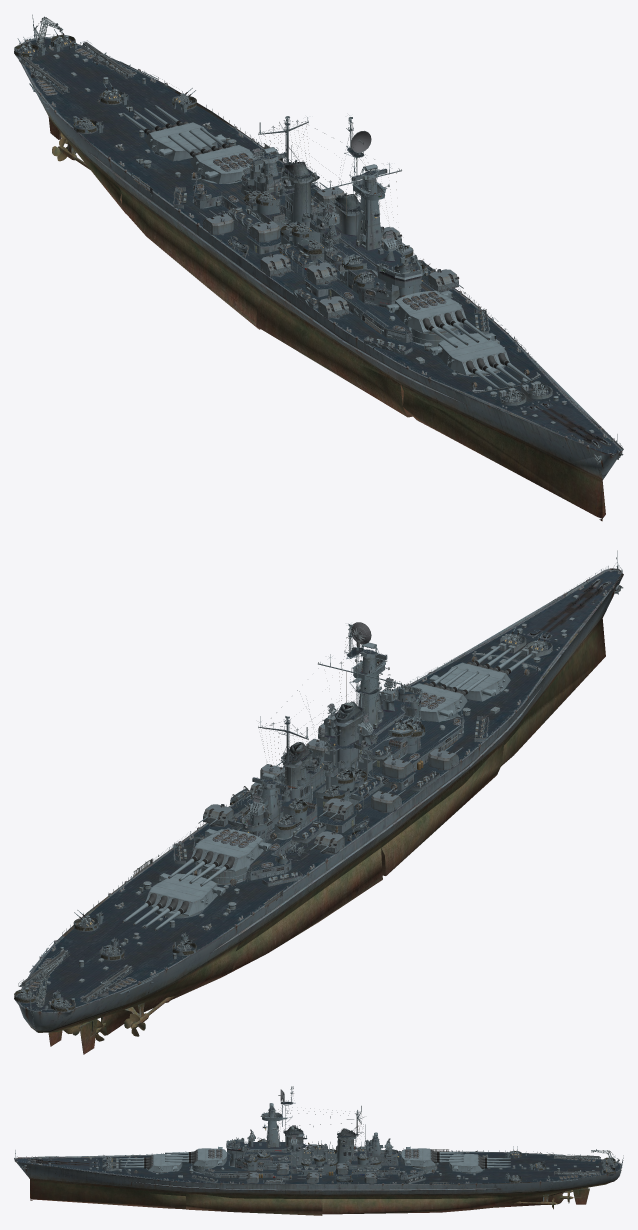
File: us_super_battleship_rhodeisland-maximum-compressed.glb
The picture shows the model from 3 angles, top to bottom: view 1: azimuth 30°, elevation 25°; view 2: azimuth 150°, elevation 25°; view 3: azimuth 270°, elevation 25°; orthographic projection. The views are drawn at different scales.
Visible parts, largest first — view 1: HP_MidFront, HP_MidBack, HP_Bow, HP_Stern, HP_AGM_3.005, HP_AGM_3.006, HP_AGM_3.001, HP_AGM_3.004; view 2: HP_MidBack, HP_Stern, HP_MidFront, HP_Bow, HP_AGM_3.001, HP_AGM_3.004, HP_AGM_3.005, HP_AGM_3.006; view 3: HP_MidBack, HP_MidFront, HP_Bow, HP_Stern, HP_AGM_3.001, HP_AGM_3.005, HP_AGM_3.006, HP_AGM_3.004.
Boxes of the visible parts, x1,y1,x2,y2 form: HP_MidFront: (254,121,517,417); HP_MidBack: (114,118,335,329); HP_Bow: (395,335,623,521); HP_Stern: (14,14,261,213); HP_AGM_3.005: (429,333,532,390); HP_AGM_3.006: (386,290,489,347); HP_AGM_3.001: (122,105,225,161); HP_AGM_3.004: (168,127,257,183); HP_MidBack: (114,719,393,971); HP_Stern: (14,874,261,1054); HP_MidFront: (266,628,514,875); HP_Bow: (408,552,623,766); HP_AGM_3.001: (122,873,225,930); HP_AGM_3.004: (168,828,271,886); HP_AGM_3.005: (429,645,532,701); HP_AGM_3.006: (412,666,489,722); HP_MidBack: (296,1111,470,1214); HP_MidFront: (173,1089,353,1215); HP_Bow: (14,1150,185,1209); HP_Stern: (451,1150,623,1209); HP_AGM_3.001: (449,1152,510,1172); HP_AGM_3.005: (120,1154,182,1172); HP_AGM_3.006: (165,1146,227,1166); HP_AGM_3.004: (401,1146,463,1166).
Size of the model in its own units: 0.0247 by 0.04 by 0.1879.
88 materials, 86 textured.
